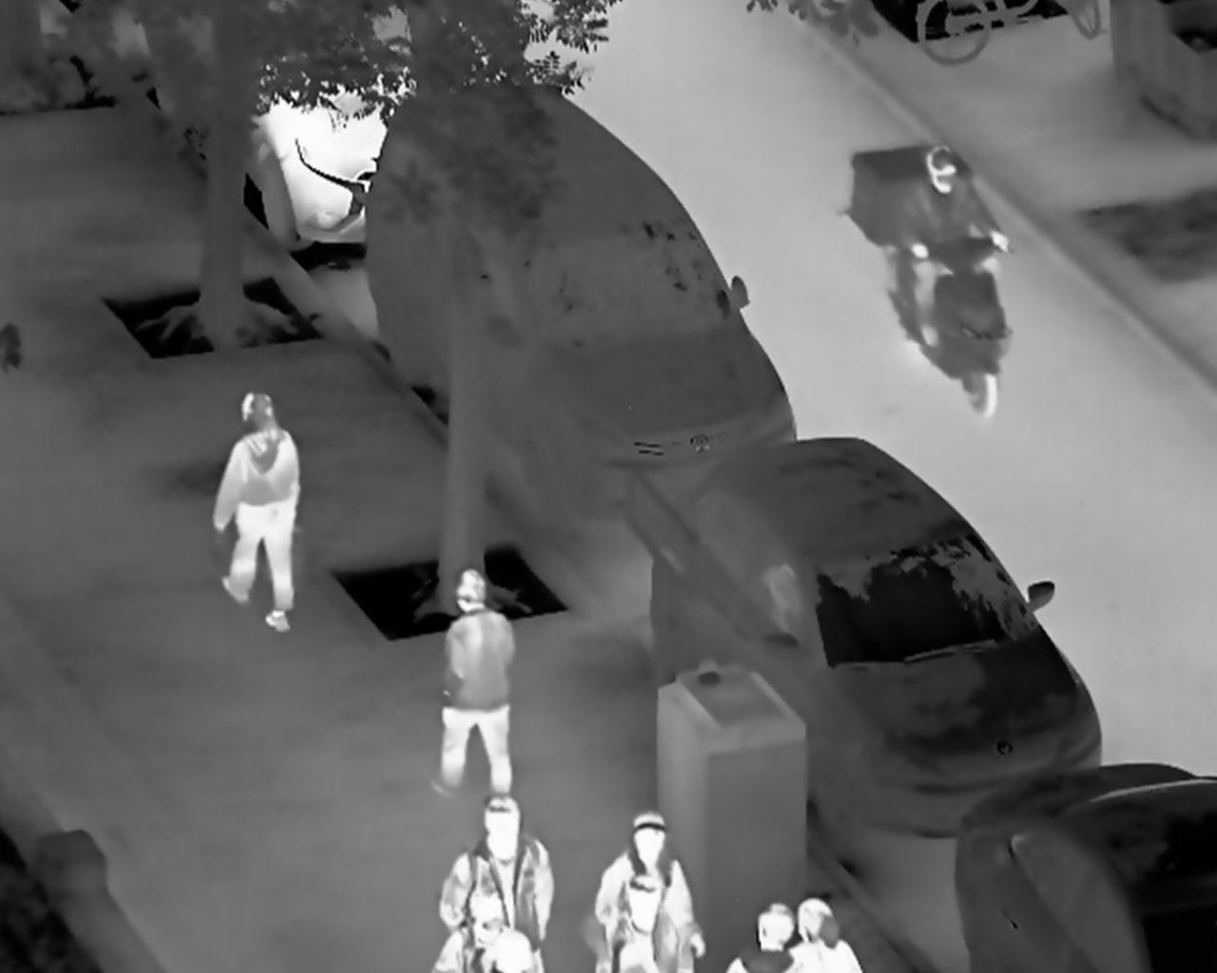person: (893, 143, 1014, 350), (208, 386, 302, 638), (429, 565, 517, 797), (437, 794, 550, 973), (589, 805, 706, 958), (429, 885, 540, 973), (600, 874, 691, 973)
